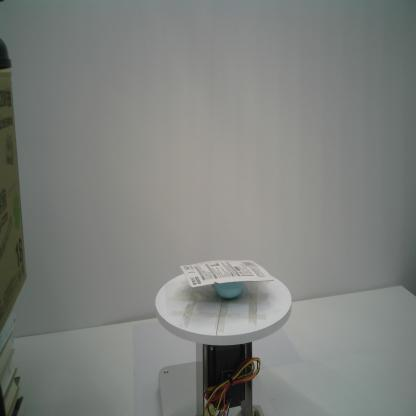Stationery: (179, 259, 274, 300)
